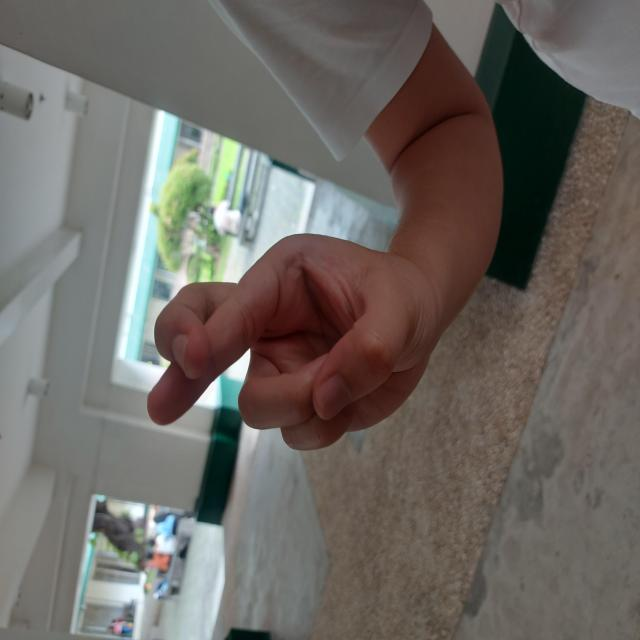R: (186, 144, 410, 440)
